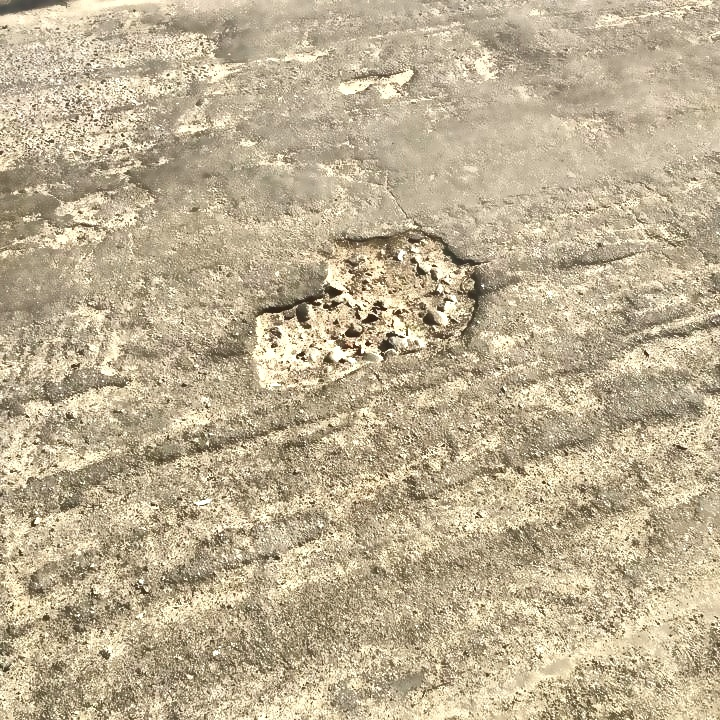pothole: (244, 218, 482, 389), (335, 66, 421, 96)
